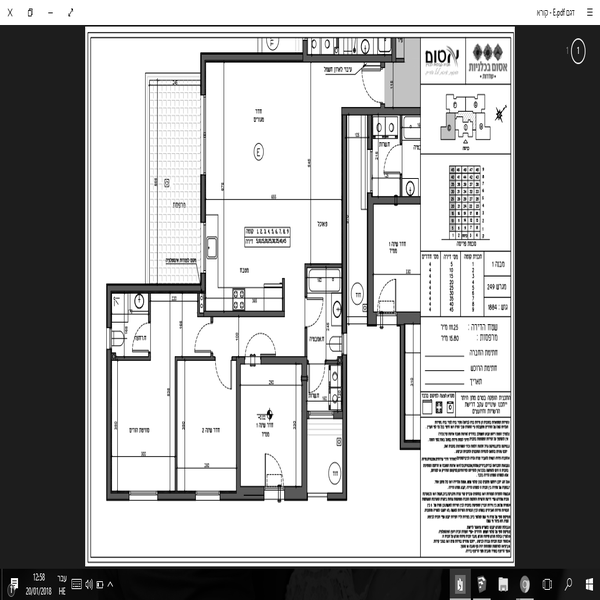door: (257, 447, 290, 485), (357, 65, 389, 103), (122, 320, 157, 354), (210, 352, 237, 392), (243, 328, 277, 356), (376, 279, 404, 312), (186, 321, 214, 351), (305, 363, 331, 395), (303, 291, 326, 325), (384, 141, 408, 173)
room: (185, 49, 347, 322), (338, 97, 425, 317), (107, 351, 185, 497), (172, 346, 244, 494), (241, 349, 307, 494), (104, 278, 205, 356), (297, 354, 350, 501), (102, 284, 205, 358)
wall: (336, 100, 352, 332), (199, 50, 401, 66), (297, 351, 313, 499), (102, 346, 117, 496), (395, 313, 411, 447), (360, 194, 376, 327), (169, 356, 183, 505), (343, 100, 424, 122), (105, 283, 207, 297), (236, 347, 246, 489), (192, 311, 286, 324), (341, 364, 348, 500), (361, 196, 427, 210), (197, 177, 213, 224), (109, 350, 154, 365), (280, 274, 297, 313), (159, 488, 201, 503), (223, 490, 268, 504), (395, 306, 423, 326), (196, 59, 210, 97), (177, 355, 207, 363), (147, 287, 154, 321)
window: (197, 93, 215, 169), (198, 217, 214, 277), (194, 484, 223, 503), (131, 484, 157, 504)
